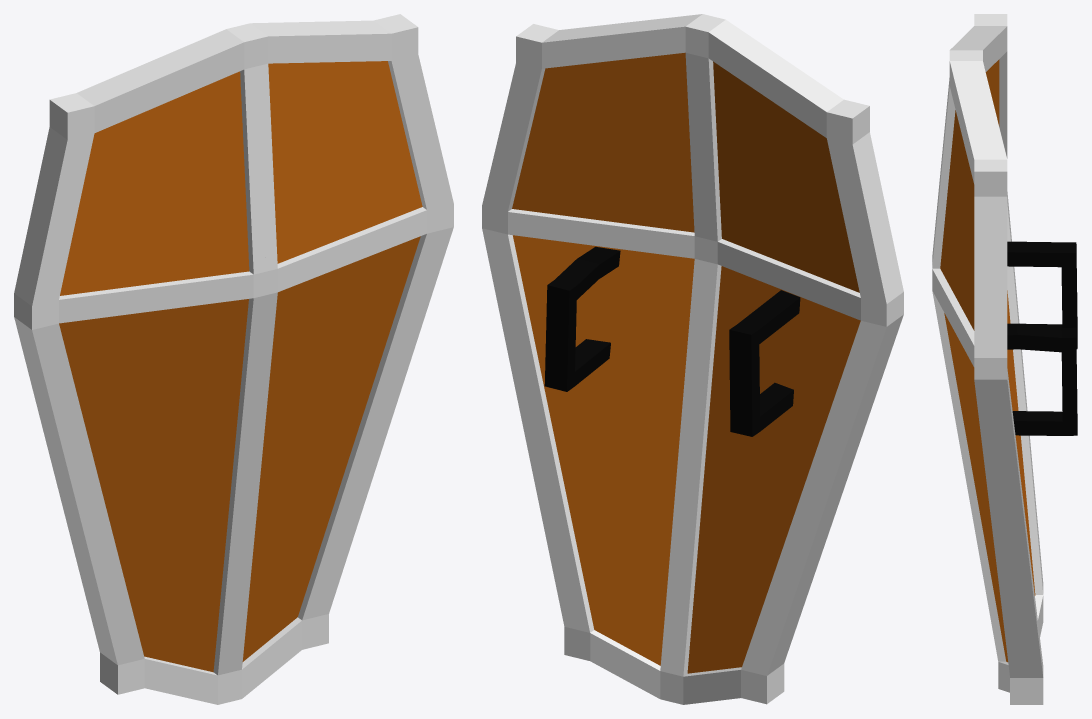
Rendered from Weapon_Shield.fbx.
3 views of the same model, side by side, from view 1: azimuth 30°, elevation 25°; view 2: azimuth 150°, elevation 25°; view 3: azimuth 270°, elevation 25° (orthographic). The views are drawn at different scales.
Parts seen in each view (by area): view 1: Shield; view 2: Shield, Strap; view 3: Shield, Strap.
Part boxes in pixels (x1,y1,x2,y2): Shield: [14, 14, 453, 704]; Shield: [482, 14, 903, 704]; Strap: [544, 246, 800, 436]; Shield: [932, 14, 1043, 704]; Strap: [1007, 241, 1077, 435].
Bounding box in the file's own units: 283 × 437 × 91.87.
